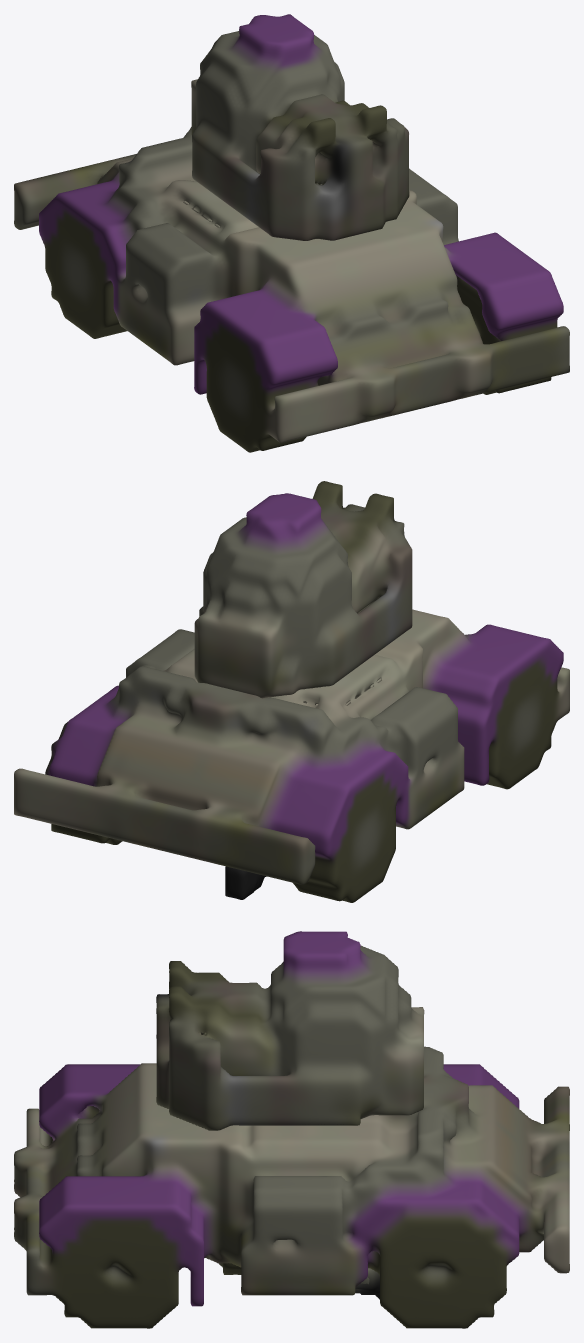
File: gatling_tank.glb
The picture shows the model from 3 angles, top to bottom: view 1: azimuth 30°, elevation 25°; view 2: azimuth 150°, elevation 25°; view 3: azimuth 270°, elevation 25°; orthographic projection.
Parts seen in each view (by area): view 1: gattling_tank; view 2: gattling_tank; view 3: gattling_tank.
Boxes of the visible parts, <box> form: gattling_tank: <box>14,14,569,452</box>; gattling_tank: <box>14,481,569,902</box>; gattling_tank: <box>14,931,569,1328</box>.
Bounding box in the file's own units: 2.23 × 2.58 × 3.63.
